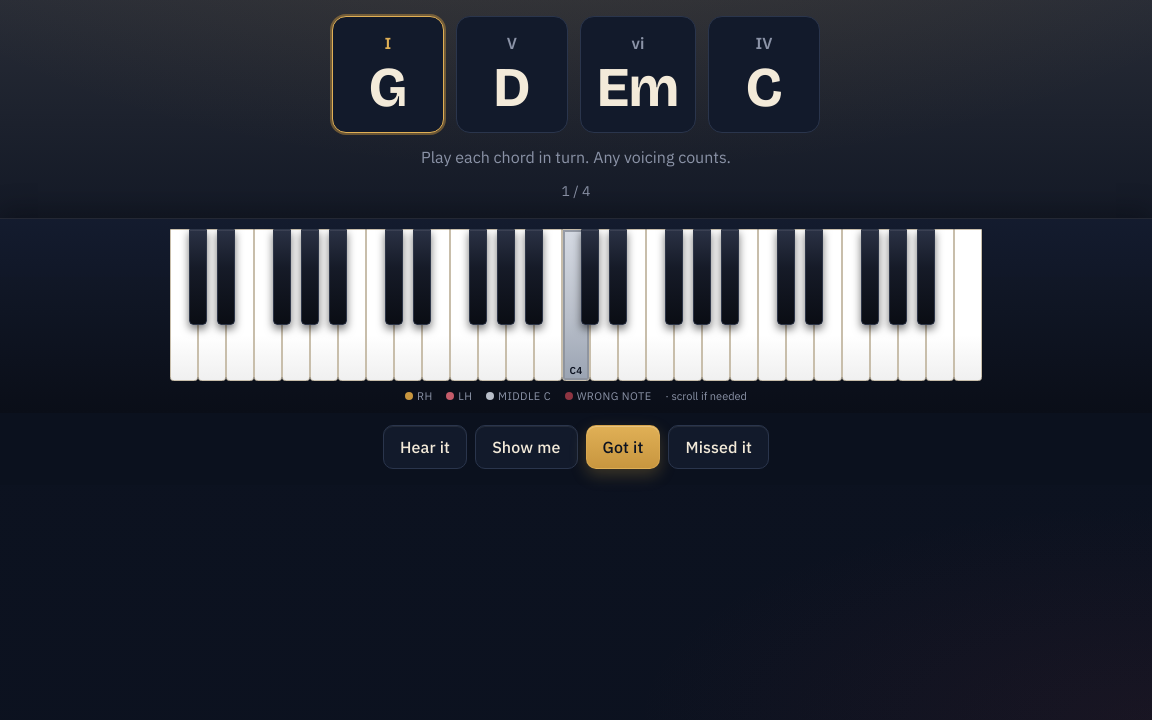
Test: without a keyboard › a double click counts once
Click the button "Got it" at (623, 447), box [586,425,660,469]
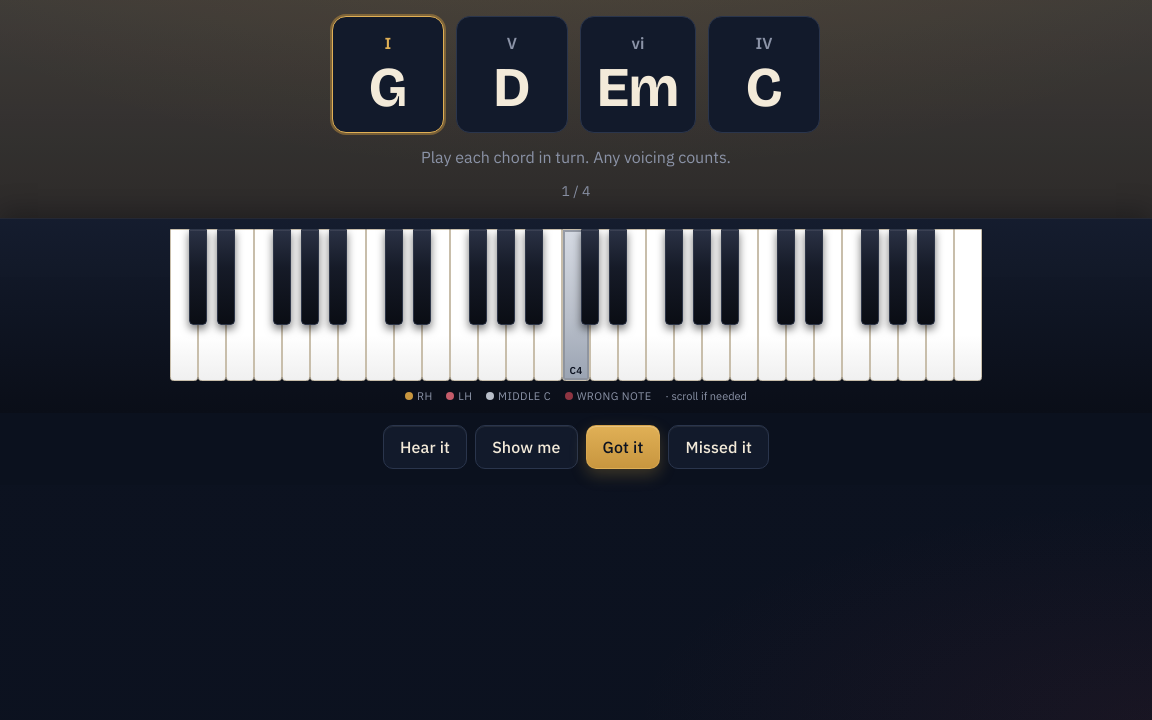
Click the button "Got it" at (623, 447), box [586,425,660,469]
Wait 600 ms
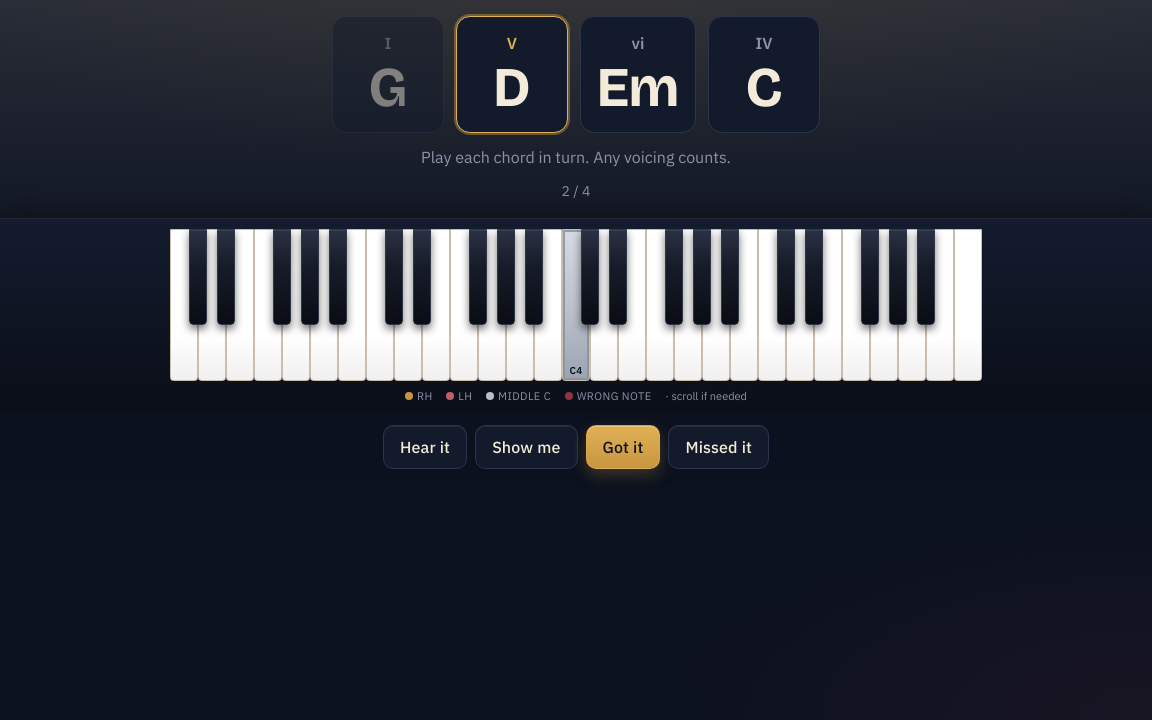
Check: the text "2 / 4" is shown, box [562,181,590,202]
